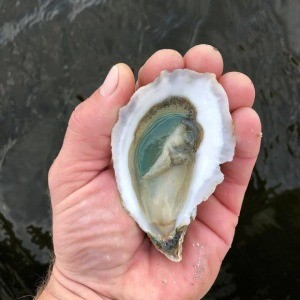oyster_brain food: (106, 53, 241, 243)
